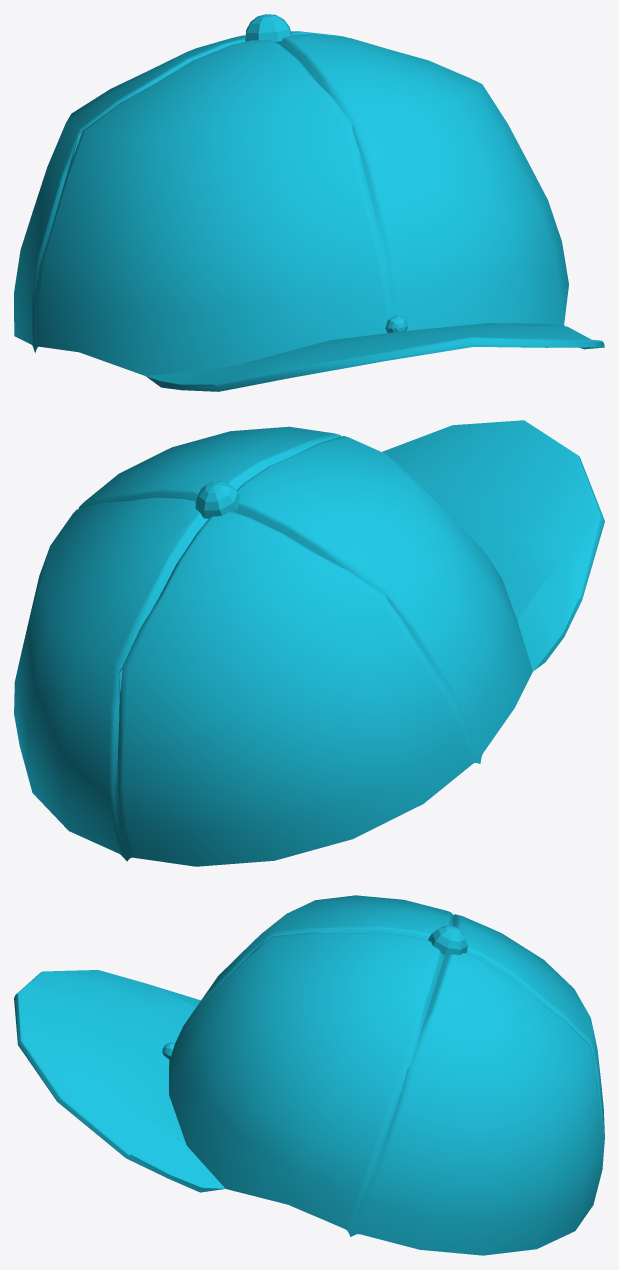
File: hat2.fbx
The picture shows the model from 3 angles, top to bottom: view 1: azimuth 30°, elevation 25°; view 2: azimuth 150°, elevation 25°; view 3: azimuth 270°, elevation 25°; orthographic projection. The views are drawn at different scales.
Visible parts, largest first — view 1: Hat4; view 2: Hat4; view 3: Hat4.
Boxes of the visible parts, x1,y1,x2,y2 form: Hat4: (14, 14, 604, 391); Hat4: (14, 420, 604, 866); Hat4: (14, 895, 604, 1255).
Size of the model in its own units: 14.92 by 10.23 by 19.75.
